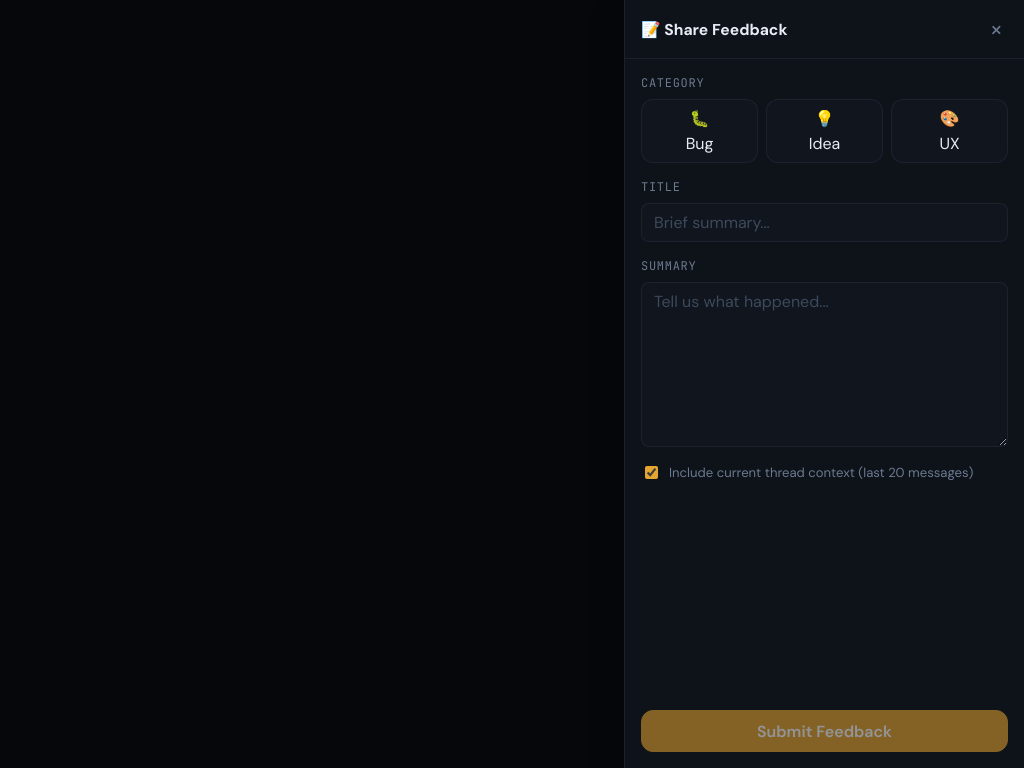
FeedbackSlideOver › shows success state and auto-closes after 2 seconds
Click the button "🐛 Bug": (700, 131) [641,99,758,163]
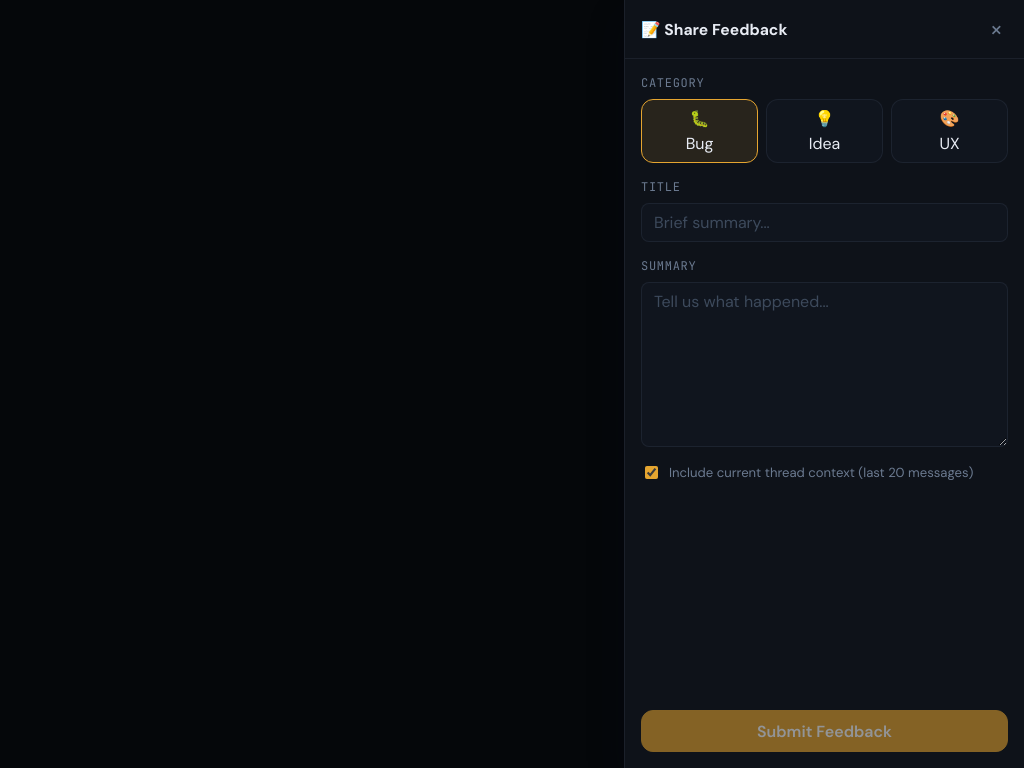
In the field with placeholder "Brief summary...": (824, 222) [641,203,1008,242], type "Risk matrix shows duplicates"
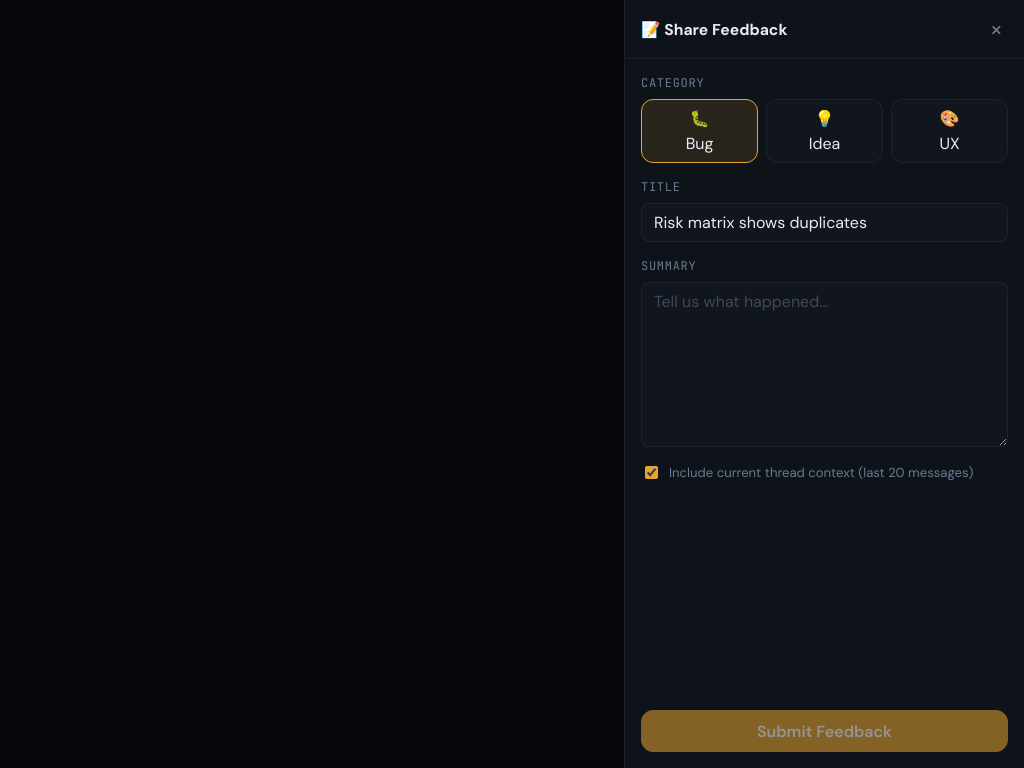
In the text box with placeholder "Tell us what happened...": (824, 364) [641,282,1008,447], type "Loading a second scenario duplicates rows in the output table."
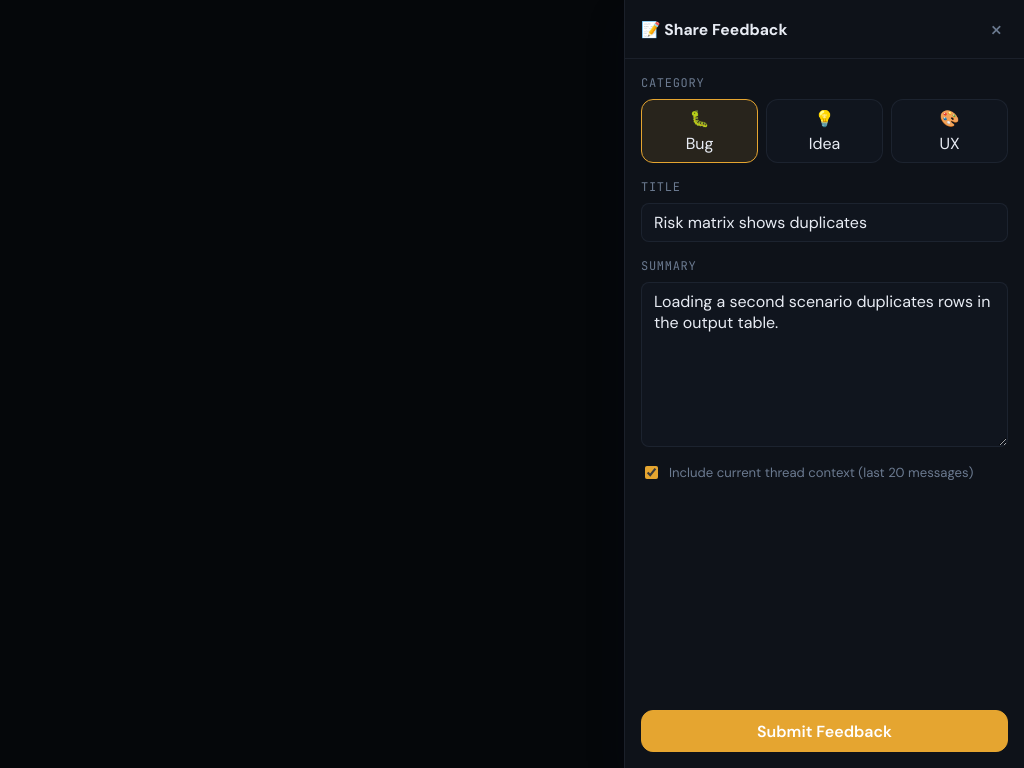
Click the button "Submit Feedback": (824, 731) [641,710,1008,752]
Wait 2000 ms
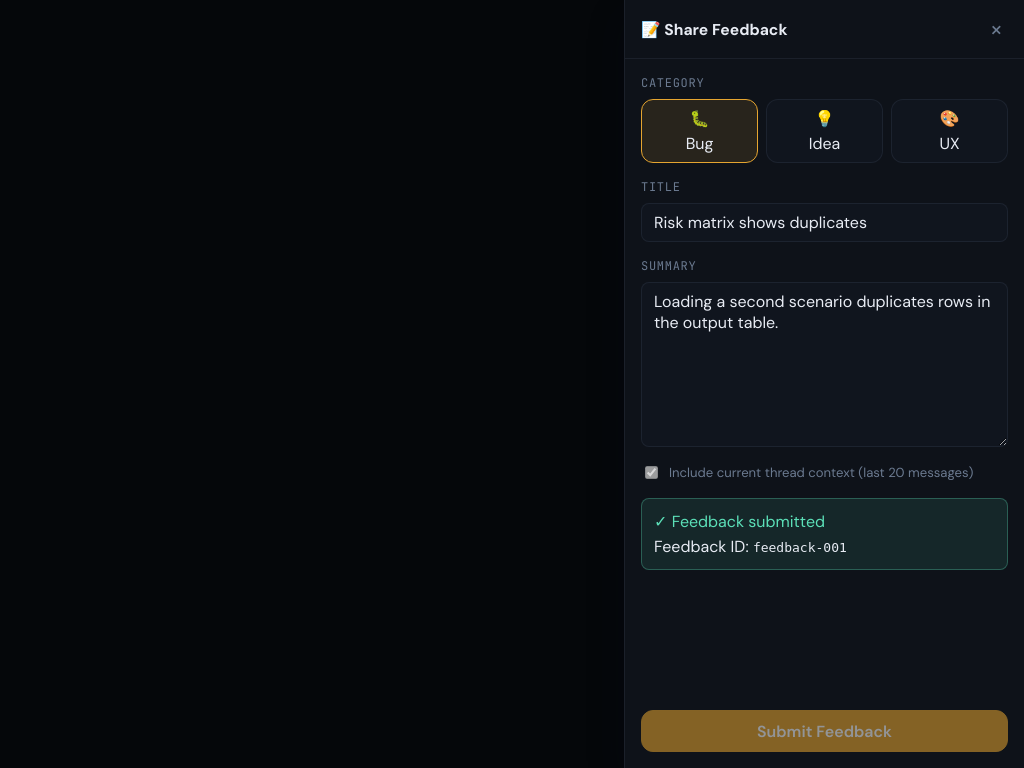
expect the text "✓ Feedback submitted" is shown: met, box [654,511,825,532]
expect the text "Feedback ID: feedback-001" is shown: met, box [654,536,847,557]
